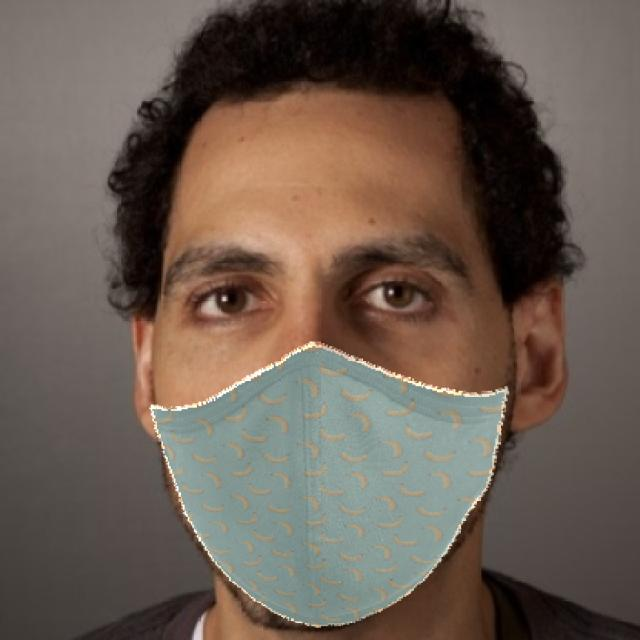mask: (132, 342, 551, 640)
